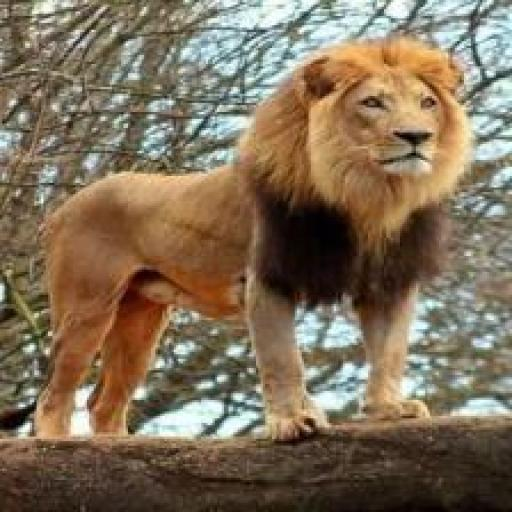lion: (231, 27, 487, 223)
